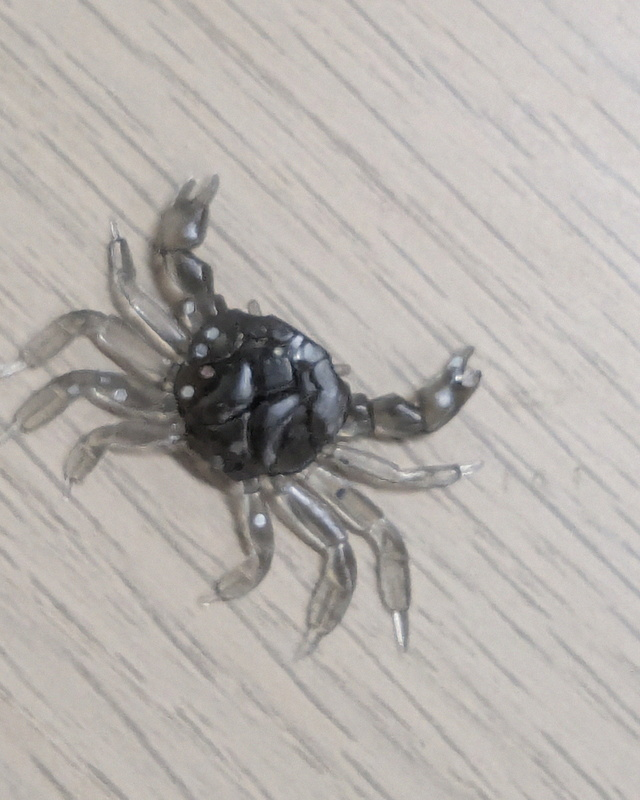crab1: (4, 172, 487, 665)
